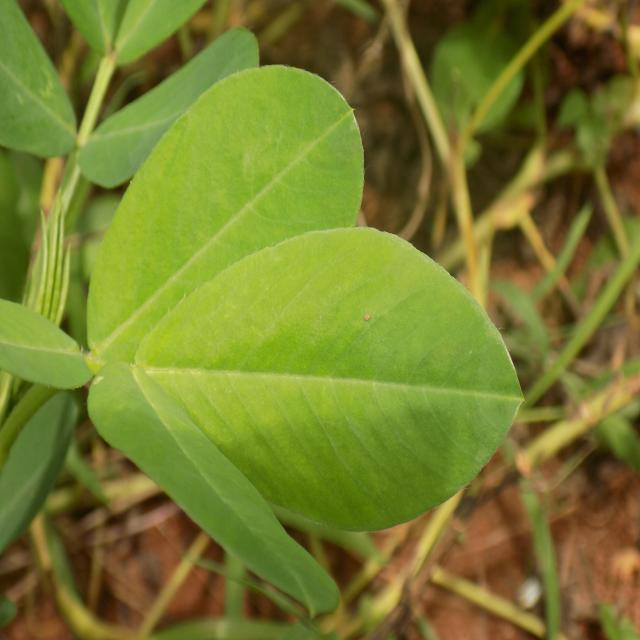Ground nut_healthy: (131, 221, 523, 528), (83, 60, 364, 425)
